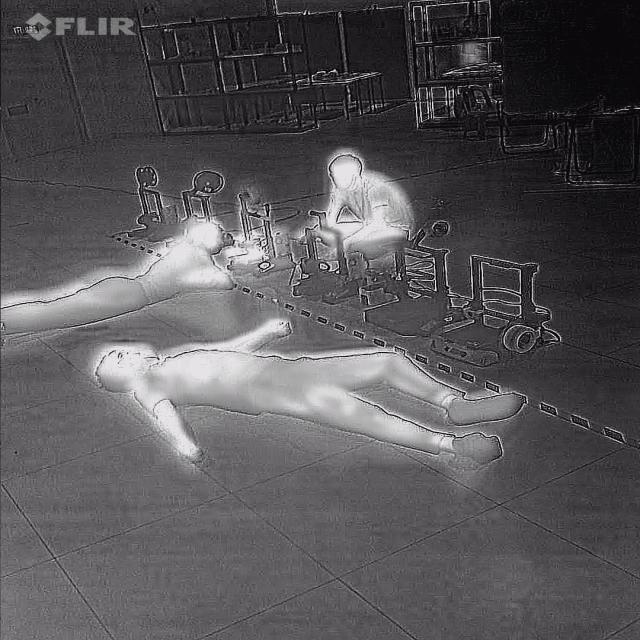Victim: (80, 315, 546, 475), (0, 205, 254, 341), (303, 147, 429, 266)
